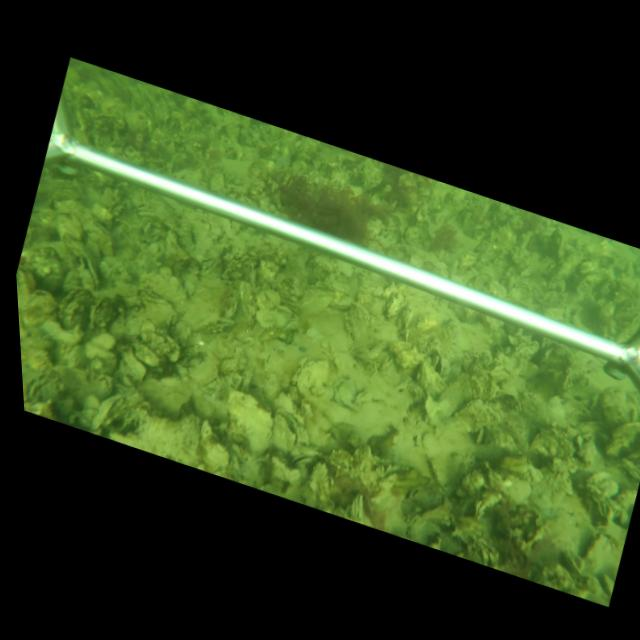Oyster-Closed: (291, 357, 331, 398), (406, 499, 448, 536), (57, 287, 91, 326), (89, 393, 123, 431), (271, 410, 299, 454), (289, 451, 320, 466), (385, 293, 402, 319)
Oyster-Indeterminate: (225, 390, 274, 456)
Oyster-Open: (79, 255, 98, 288), (430, 352, 444, 377)
